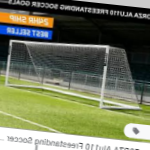goals: (3, 38, 144, 112)
